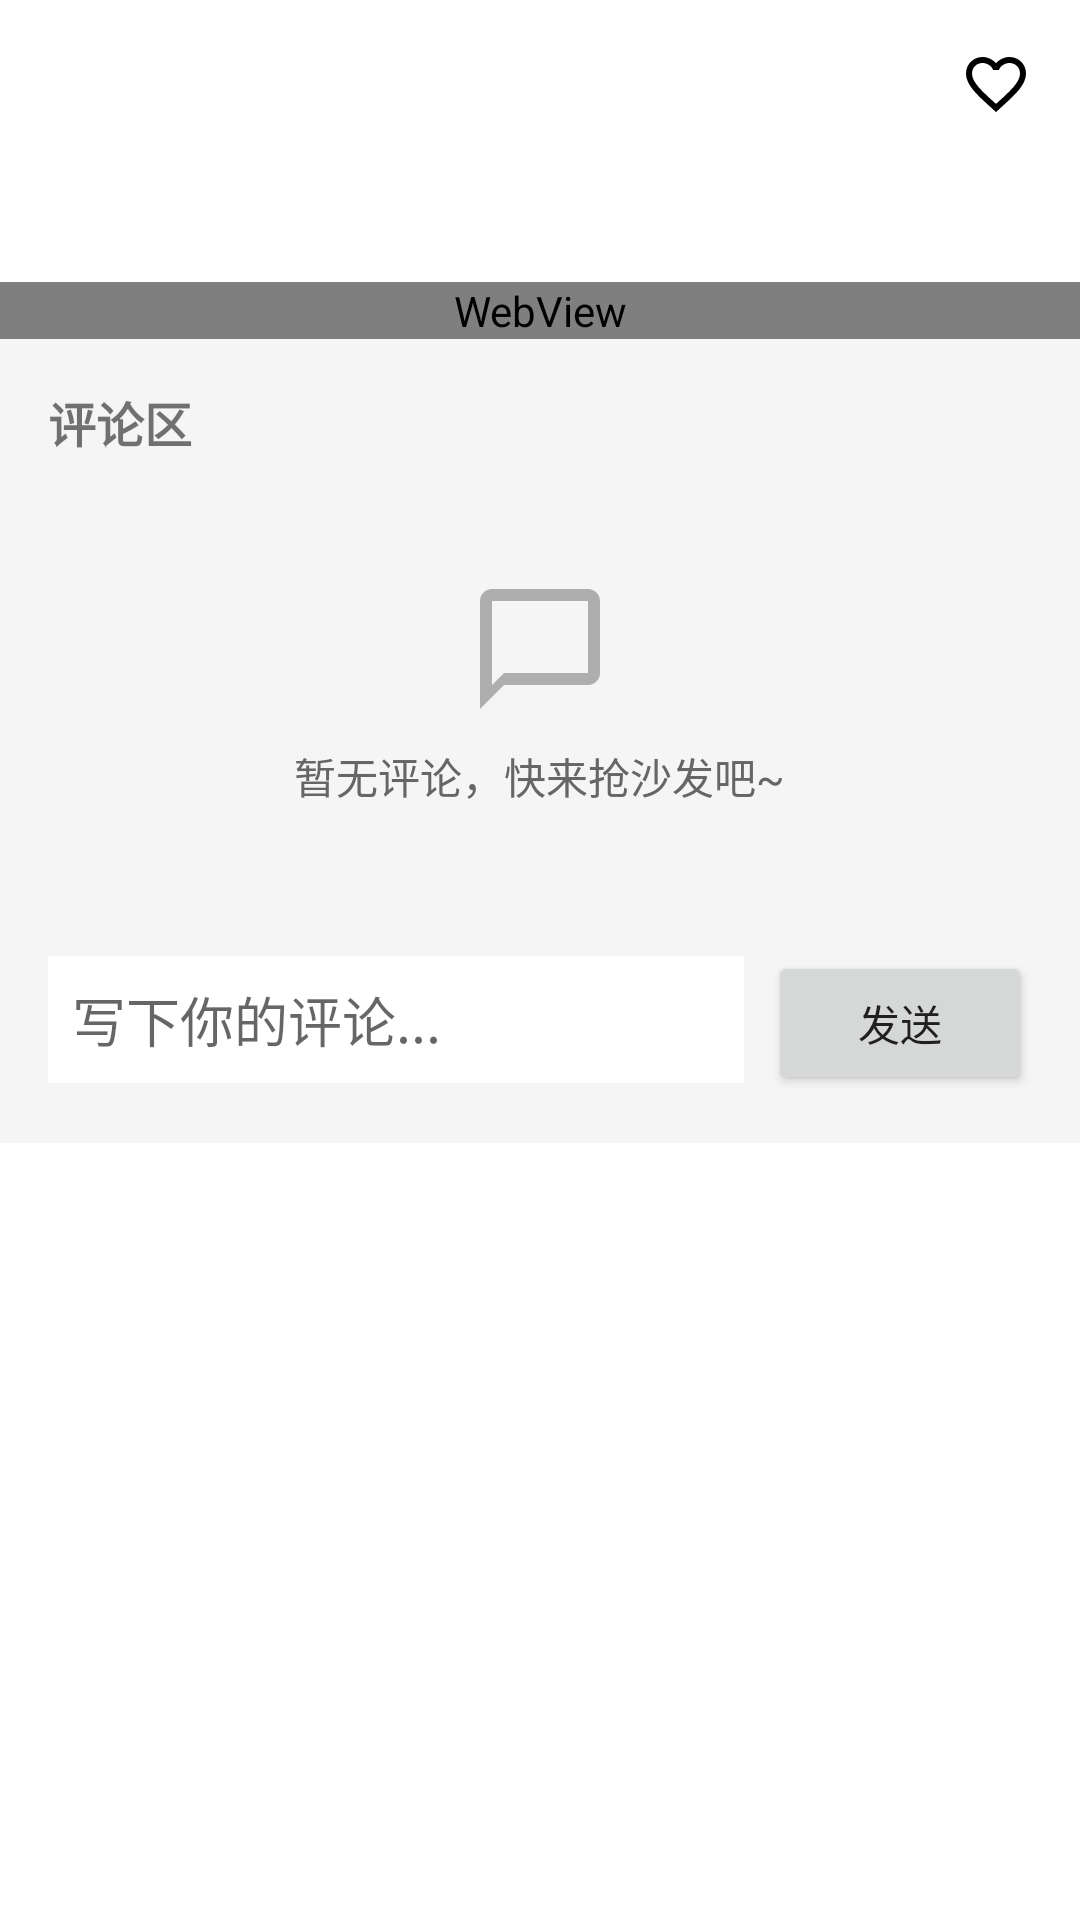

Locate icon controls on the screen. Image size 1080 x 1920, boxes as rect(x1, y1, x2, y2).
chat bubble: rect(480, 589, 600, 709)
favorite border: rect(966, 57, 1026, 112)
